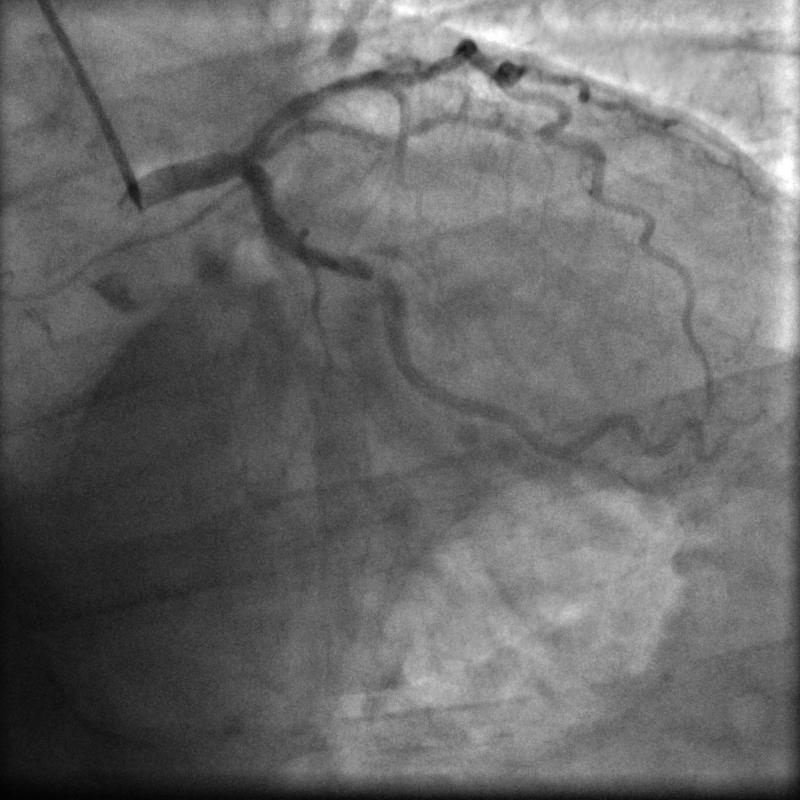Stenosis: (350, 254, 396, 291)
